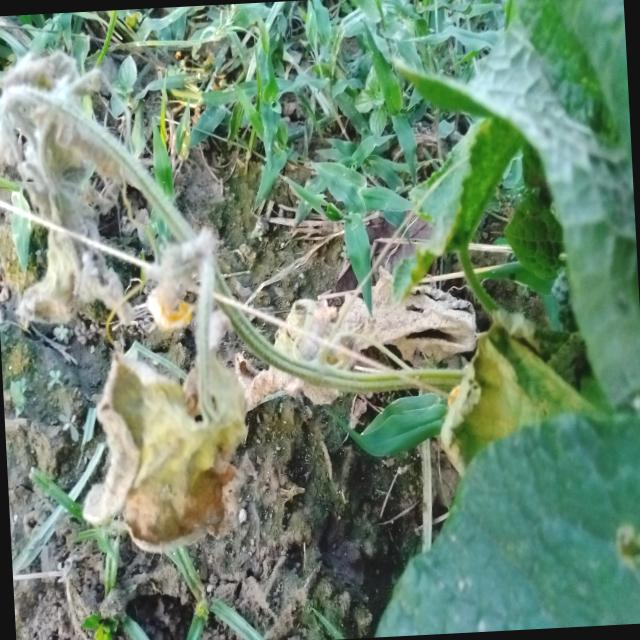cucumber_bacterial: (34, 283, 268, 584), (248, 258, 470, 418), (0, 41, 108, 355)
